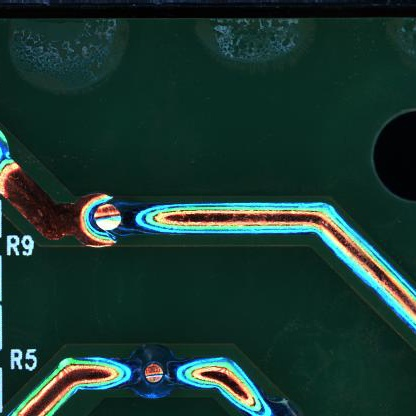spot: (73, 191, 131, 251), (126, 342, 182, 400)
